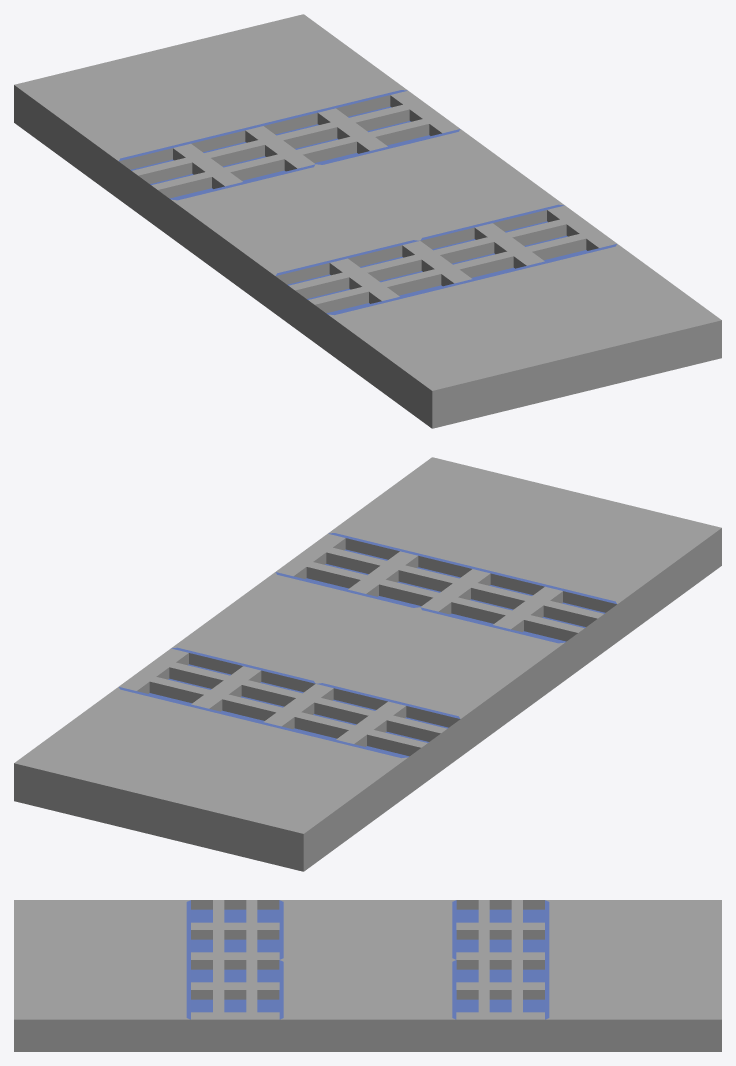
The model's file is Floor_05.fbx.
3 renders of one model, top to bottom at view 1: azimuth 30°, elevation 25°; view 2: azimuth 150°, elevation 25°; view 3: azimuth 270°, elevation 25°, orthographic. The views are drawn at different scales.
Visible parts, largest first — view 1: Cube.001; view 2: Cube.001; view 3: Cube.001.
Part boxes in pixels (x1=…): Cube.001: x1=14, y1=14, x2=721, y2=428; Cube.001: x1=14, y1=457, x2=721, y2=871; Cube.001: x1=14, y1=900, x2=721, y2=1051.
Size of the model in its own units: 200 by 25 by 500.
